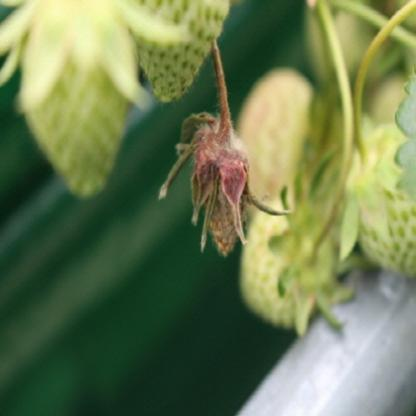Strawberry_Gray_Mold: (157, 96, 292, 256)
